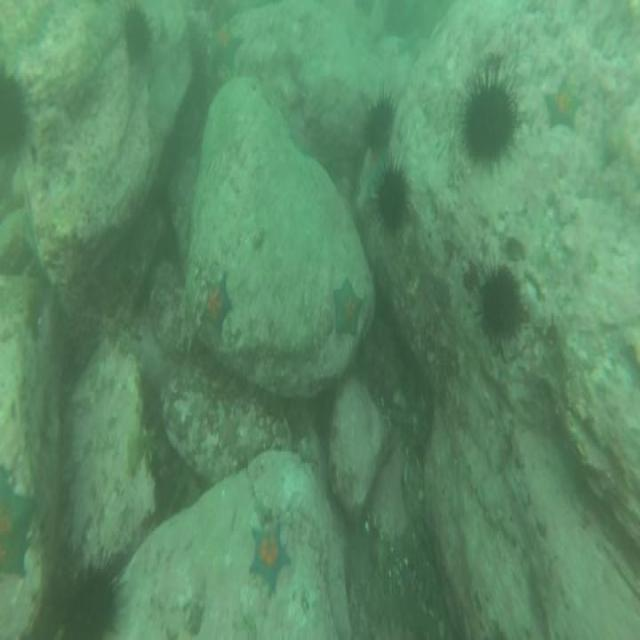echinus: (458, 60, 524, 169), (55, 548, 127, 640), (476, 256, 524, 351), (0, 55, 33, 161), (372, 160, 409, 238), (361, 85, 396, 155), (120, 0, 156, 66)
holothurian: (127, 422, 160, 485)
starfish: (0, 458, 39, 583), (249, 514, 291, 598), (197, 272, 234, 340), (542, 73, 582, 134), (332, 273, 364, 346), (207, 22, 245, 74), (211, 403, 245, 460)
